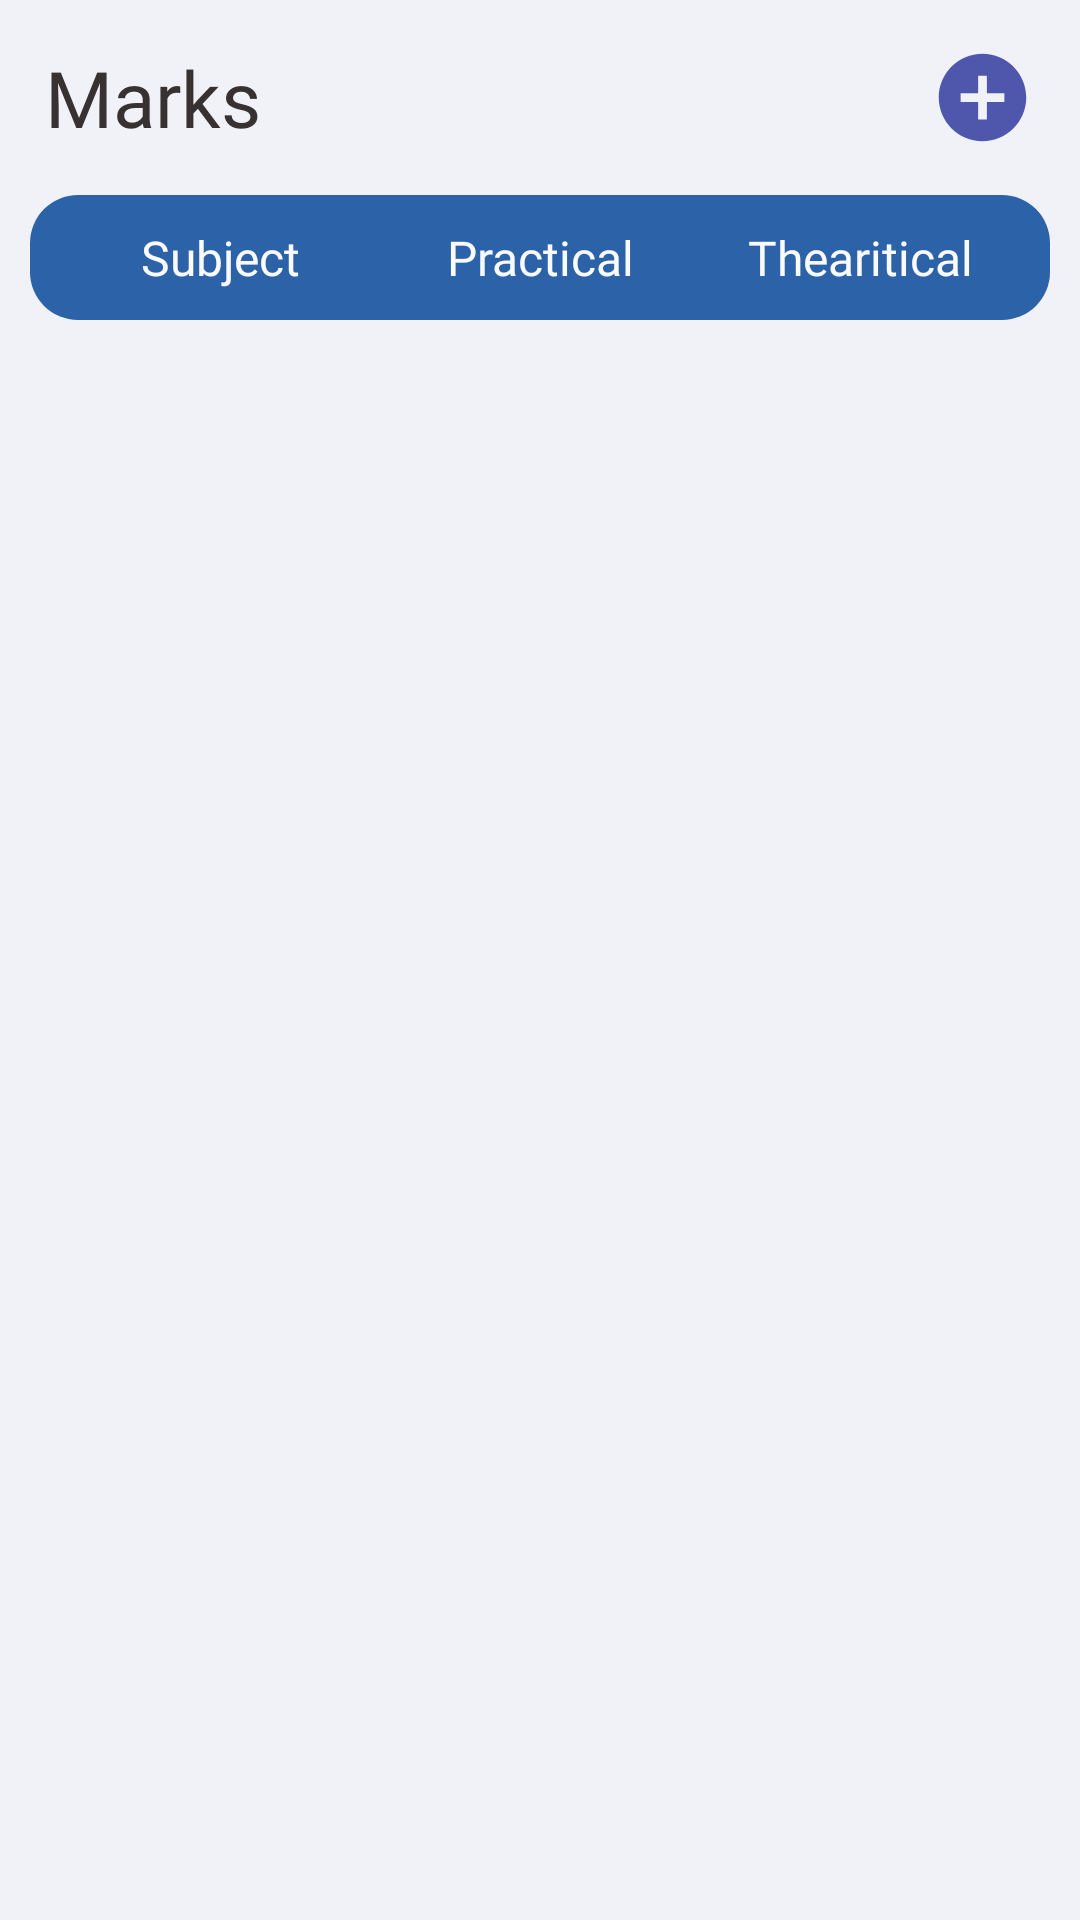

Icons on this 1080x1920 Android screen, each with the point to tap as point (x, y):
add: point (982, 97)
